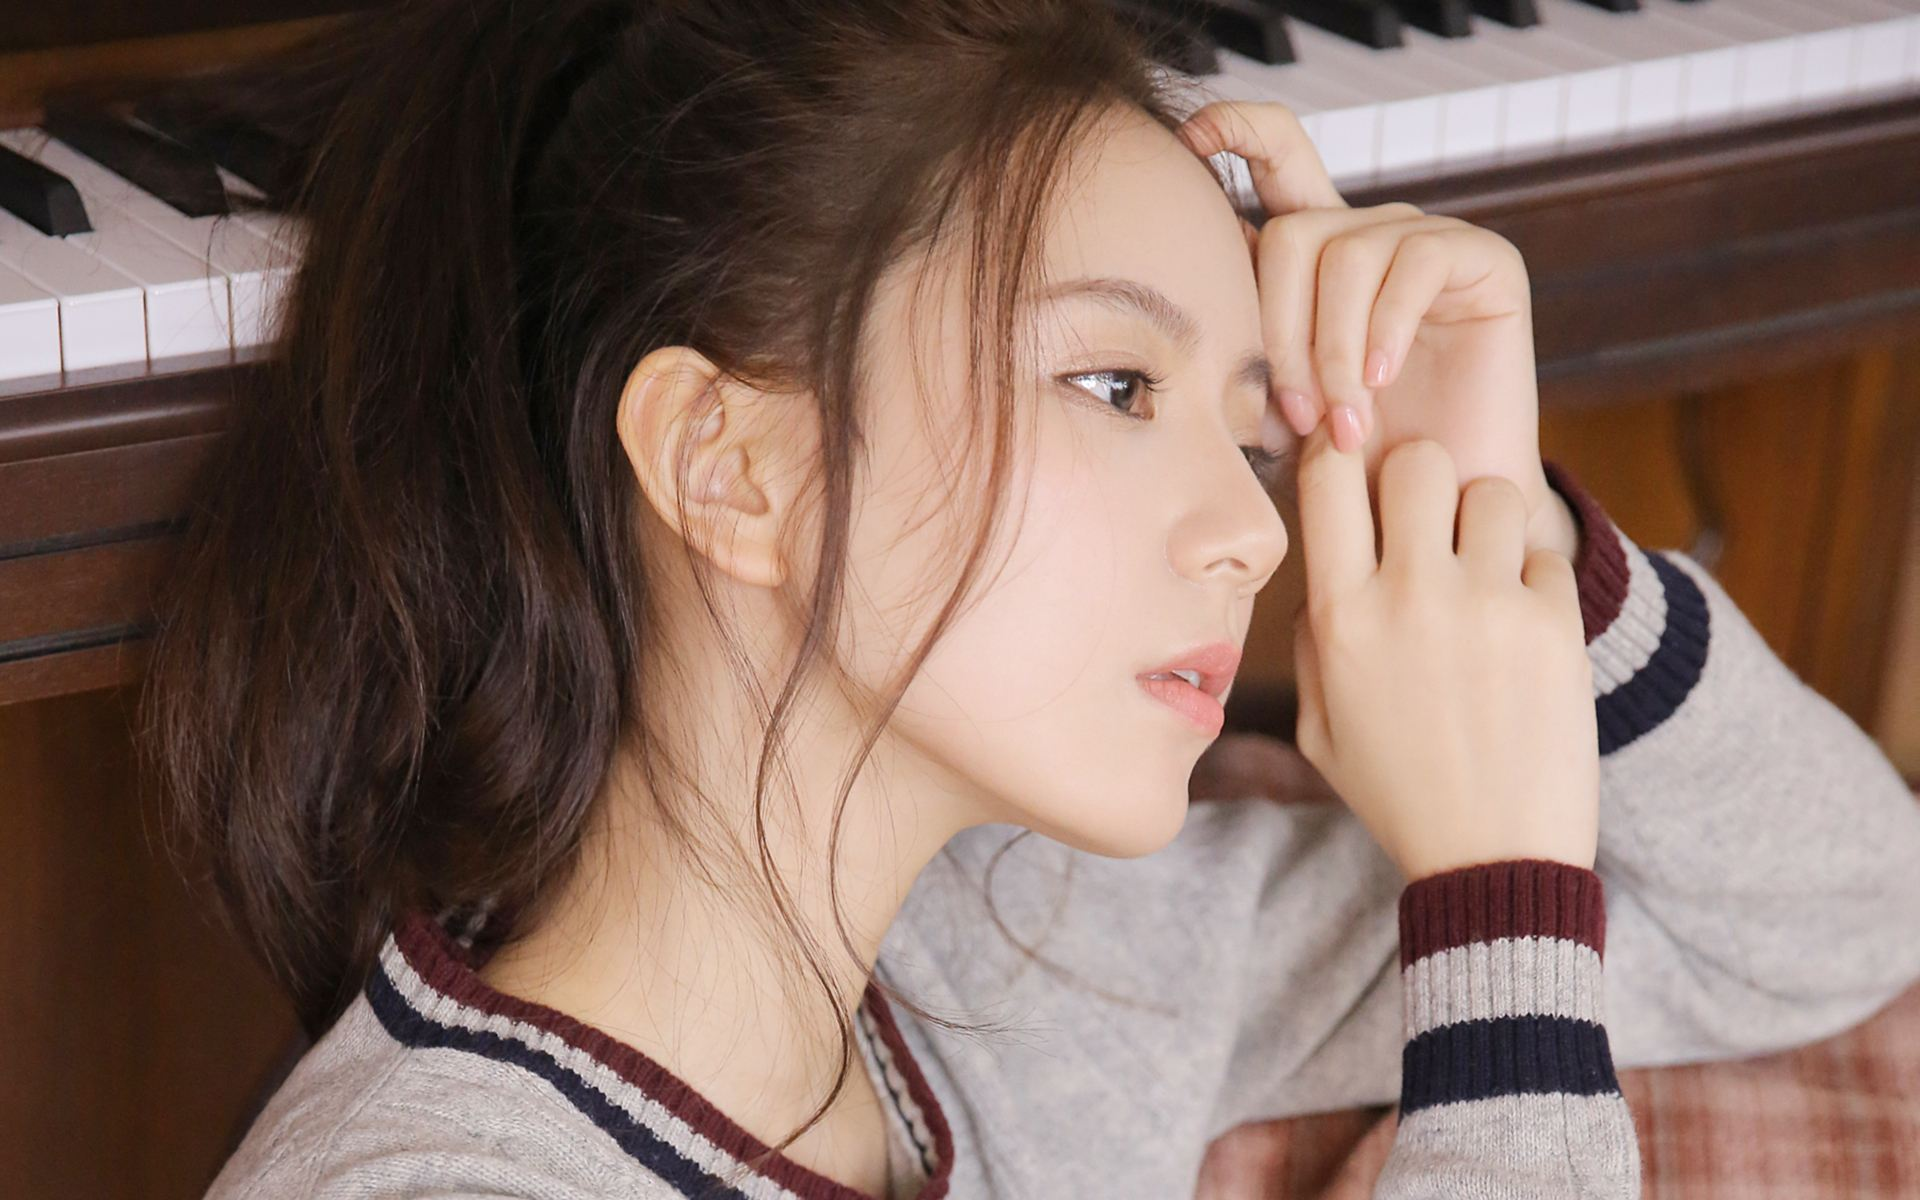person: (275, 19, 1859, 1190)
